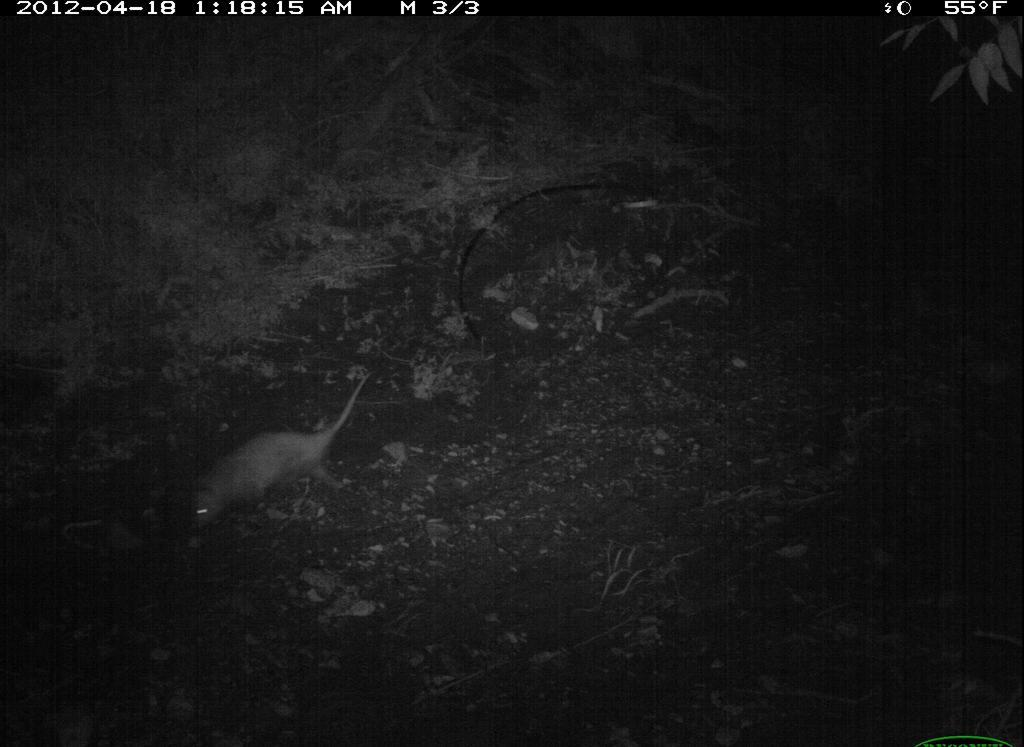opossum: (176, 363, 386, 537)
